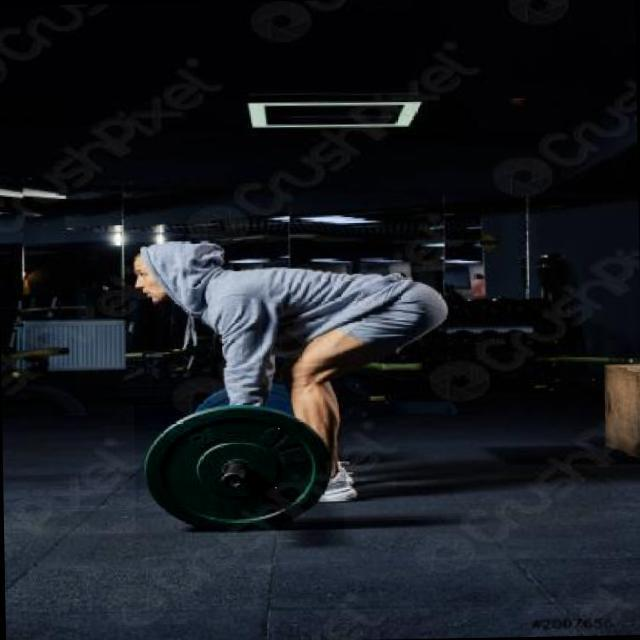barbell: (135, 400, 345, 540)
